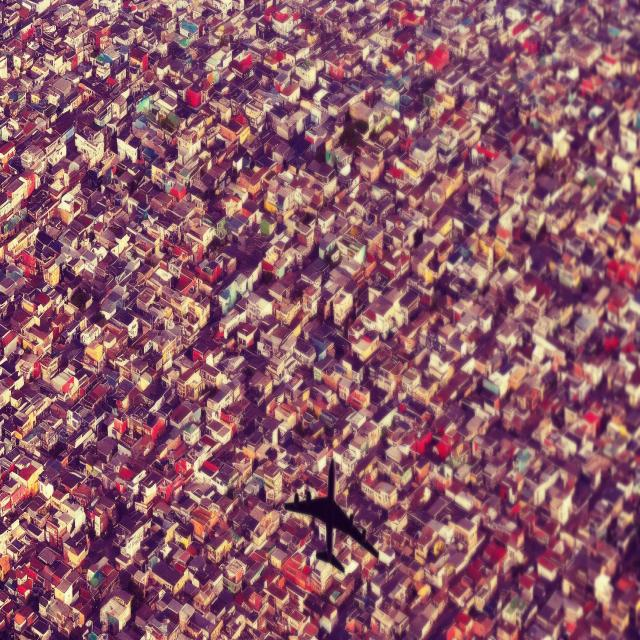airplane: (283, 456, 395, 570)
